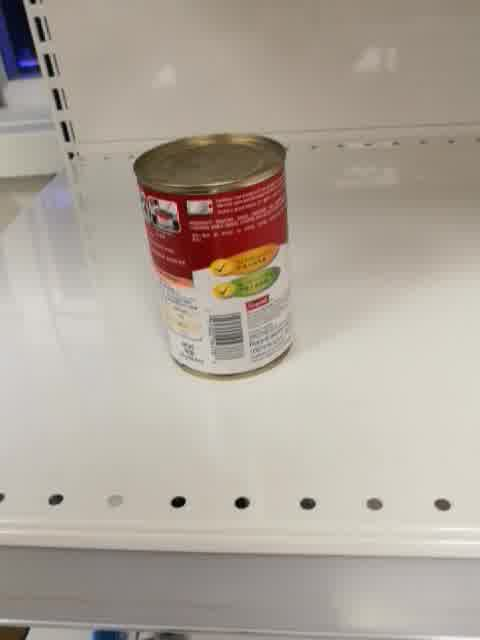tomatosoup: (132, 131, 297, 382)
